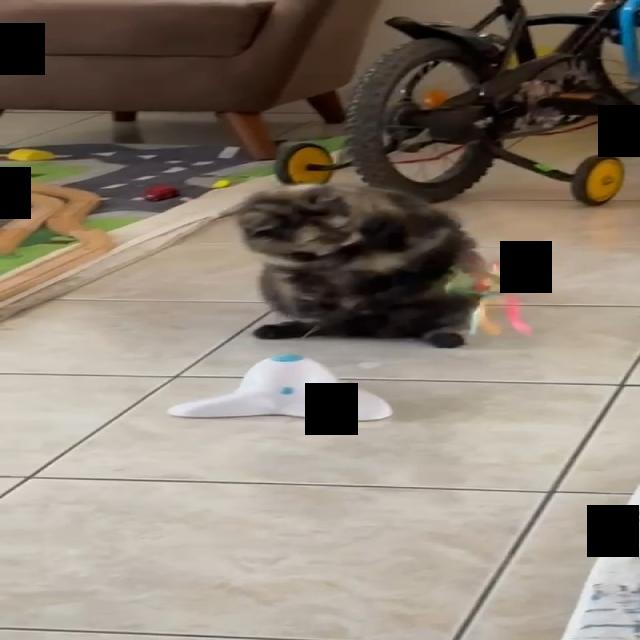authorized: (217, 182, 493, 348)
